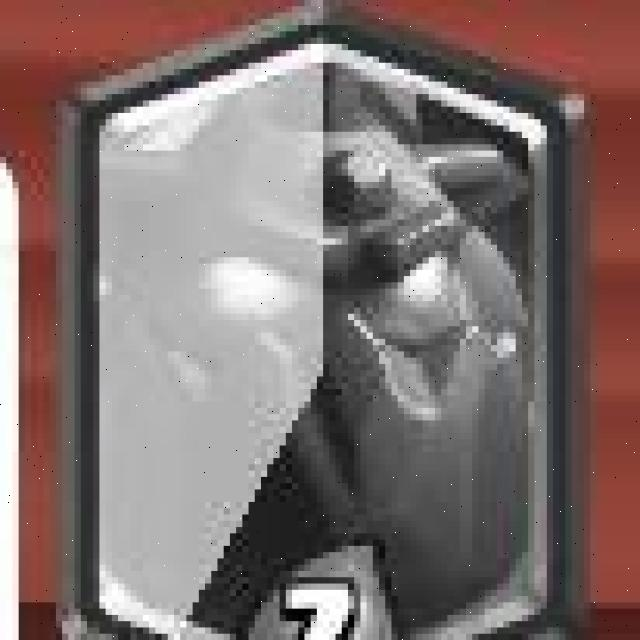Lava_Hound: (57, 5, 579, 640)
